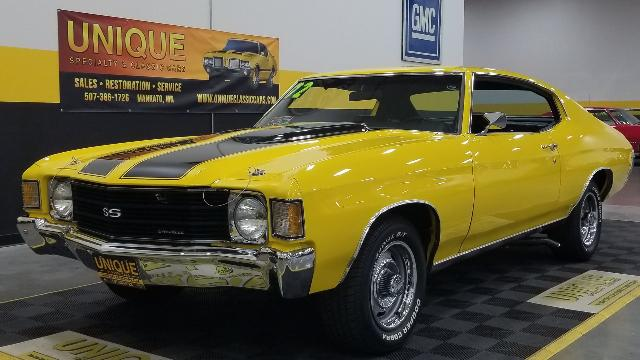chevelle-1972: (18, 67, 633, 353)
